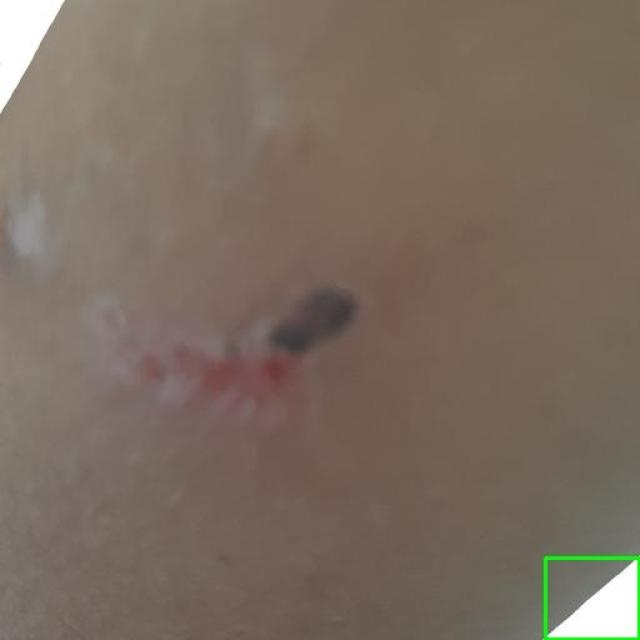Scabies: (545, 558, 639, 639)
